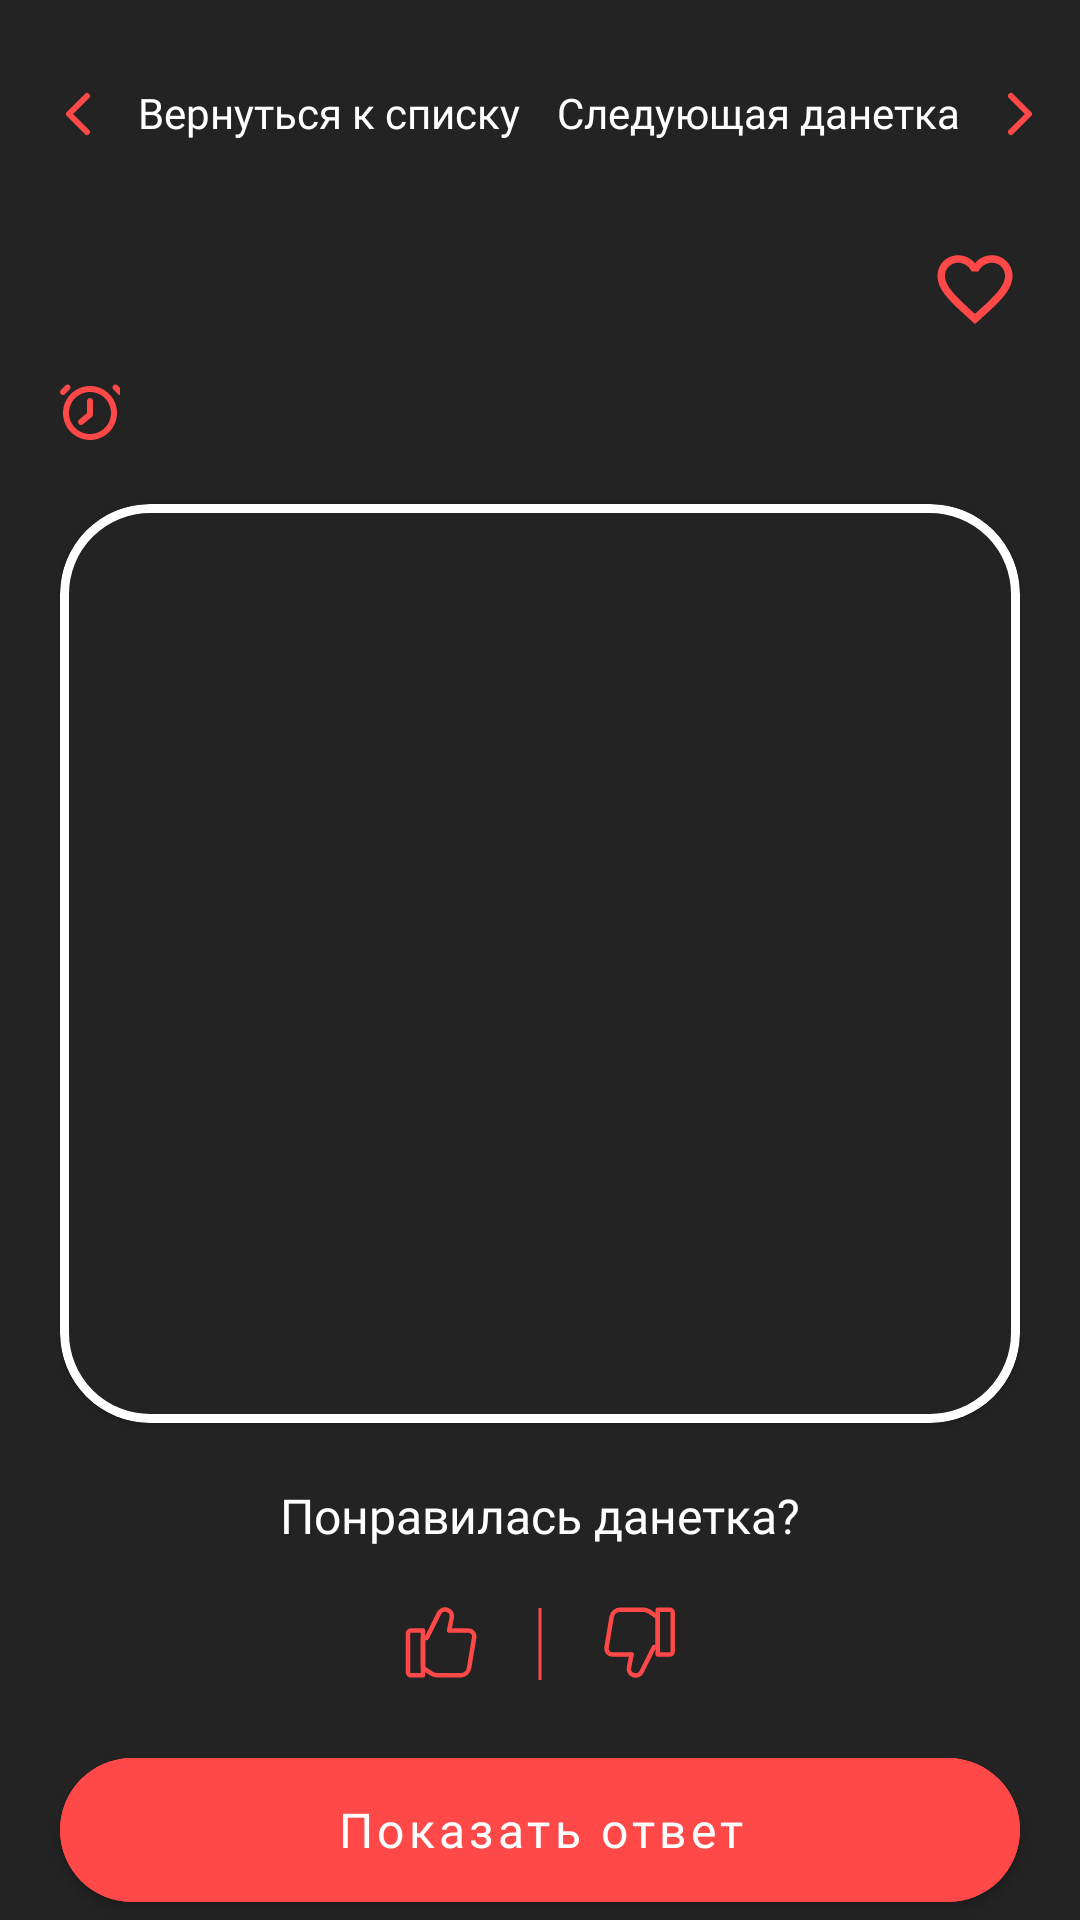

Point at icon controls on the screen. Image size 1080*1920, points as [x,y].
dont like question: [639,1642]
favorite: [975,289]
like question: [441,1642]
